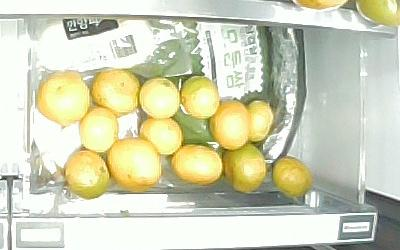tangerine: (107, 137, 162, 192), (37, 70, 89, 125), (63, 150, 111, 201), (221, 141, 267, 194), (169, 143, 224, 187), (92, 70, 140, 115), (212, 100, 251, 151), (273, 156, 316, 200), (80, 107, 120, 153), (182, 74, 220, 120), (140, 78, 179, 120), (139, 118, 183, 154), (248, 100, 275, 142)
